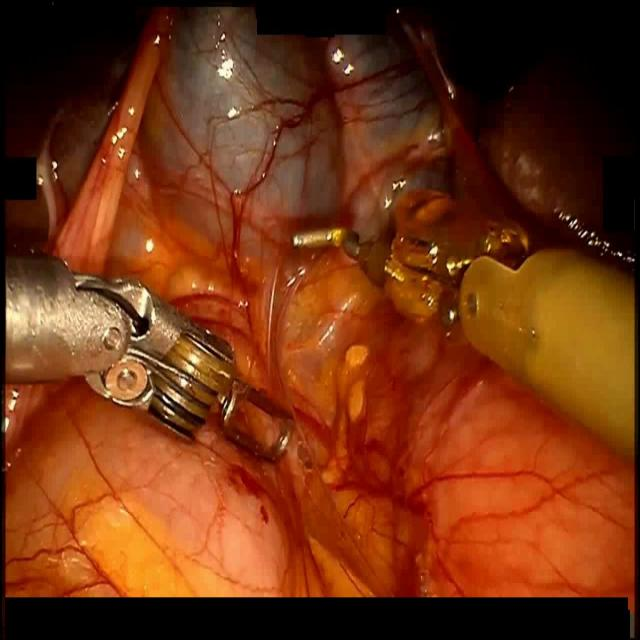surgical-area: (3, 0, 638, 598)
surgical-tool: (3, 249, 236, 432), (460, 243, 636, 463), (294, 225, 364, 260)
